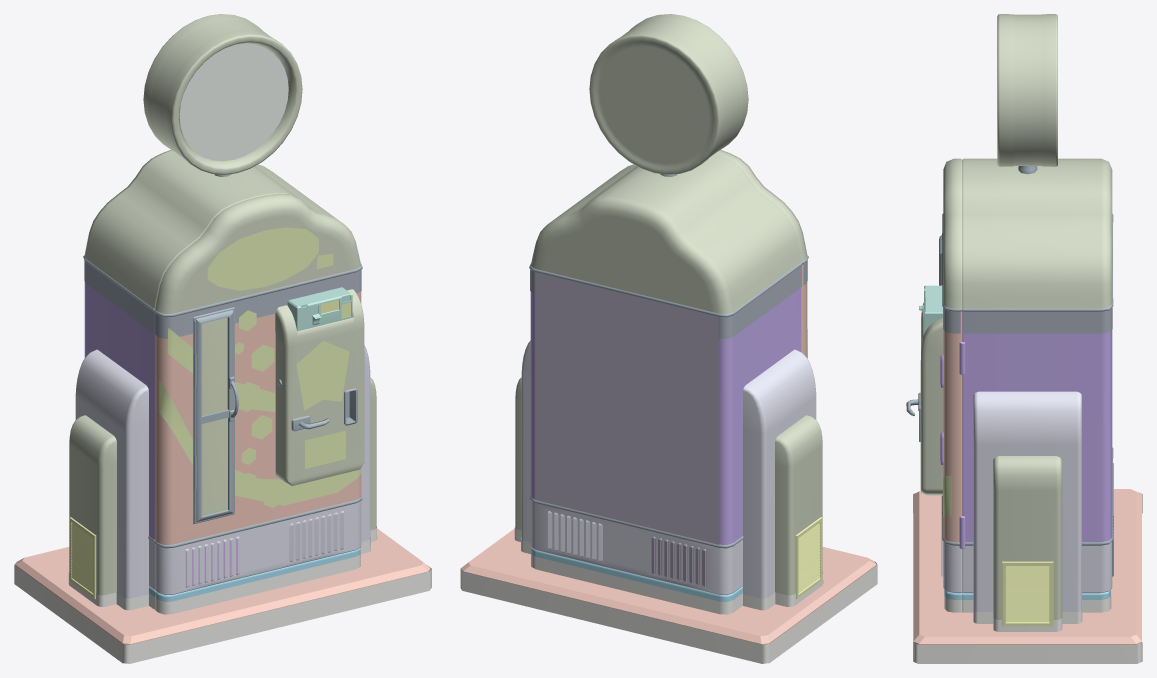
The model's file is Mule Kick.fbx.
The picture shows the model from 3 angles, left to right: view 1: azimuth 30°, elevation 25°; view 2: azimuth 150°, elevation 25°; view 3: azimuth 270°, elevation 25°; orthographic projection.
Visible parts, largest first — view 1: mc_mtl_p7_zm_vending_three_gun_metal_02_red_bld, mc_mtl_p7_zm_vending_three_gun_metal_01_yellow_bld, mc_mtl_p7_zm_vending_three_gun_metal_01_green_bld, mc_mtl_p7_zm_vending_three_gun_decal, mc_mtl_p7_zm_vending_three_gun_dust_2, mc_mtl_p7_zm_vending_three_gun_plastic, mc_mtl_p7_zm_vending_three_gun_metal_02_bld, mc_mtl_p7_zm_vending_three_gun_metal_02_yellow_bld, mc_mtl_p7_zm_vending_three_gun_glass, mc_mtl_p7_zm_vending_three_gun_dust_1, mc_mtl_p7_zm_vending_three_gun_metal_intake_03, mc_mtl_p7_zm_vending_three_gun_metal_03_bld (+1 smaller); view 2: mc_mtl_p7_zm_vending_three_gun_metal_02_red_bld, mc_mtl_p7_zm_vending_three_gun_coil, mc_mtl_p7_zm_vending_three_gun_metal_01_green_bld, mc_mtl_p7_zm_vending_three_gun_dust_2, mc_mtl_p7_zm_vending_three_gun_metal_01_yellow_bld, mc_mtl_p7_zm_vending_three_gun_metal_02_yellow_bld, mc_mtl_p7_zm_vending_three_gun_dust_1, mc_mtl_p7_zm_vending_three_gun_metal_02_bld, mc_mtl_p7_zm_vending_three_gun_metal_intake_03, mc_mtl_p7_zm_vending_three_gun_metal_02_green_bld; view 3: mc_mtl_p7_zm_vending_three_gun_metal_02_red_bld, mc_mtl_p7_zm_vending_three_gun_metal_01_green_bld, mc_mtl_p7_zm_vending_three_gun_metal_01_yellow_bld, mc_mtl_p7_zm_vending_three_gun_metal_02_yellow_bld, mc_mtl_p7_zm_vending_three_gun_dust_2, mc_mtl_p7_zm_vending_three_gun_dust_1, mc_mtl_p7_zm_vending_three_gun_metal_intake_03, mc_mtl_p7_zm_vending_three_gun_metal_02_bld, mc_mtl_p7_zm_vending_three_gun_metal_03_bld, mc_mtl_p7_zm_vending_three_gun_metal_02_green_bld, mc_mtl_p7_zm_vending_three_gun_decal.
Boxes of the visible parts, <box> form: mc_mtl_p7_zm_vending_three_gun_metal_02_red_bld: <box>69,14,376,595</box>; mc_mtl_p7_zm_vending_three_gun_metal_01_yellow_bld: <box>15,270,430,644</box>; mc_mtl_p7_zm_vending_three_gun_metal_01_green_bld: <box>75,345,370,605</box>; mc_mtl_p7_zm_vending_three_gun_decal: <box>159,227,361,507</box>; mc_mtl_p7_zm_vending_three_gun_dust_2: <box>14,526,431,663</box>; mc_mtl_p7_zm_vending_three_gun_plastic: <box>179,44,288,161</box>; mc_mtl_p7_zm_vending_three_gun_metal_02_bld: <box>83,174,362,548</box>; mc_mtl_p7_zm_vending_three_gun_metal_02_yellow_bld: <box>84,261,155,539</box>; mc_mtl_p7_zm_vending_three_gun_glass: <box>201,317,227,515</box>; mc_mtl_p7_zm_vending_three_gun_dust_1: <box>84,260,361,338</box>; mc_mtl_p7_zm_vending_three_gun_metal_intake_03: <box>69,300,350,599</box>; mc_mtl_p7_zm_vending_three_gun_metal_03_bld: <box>287,287,352,331</box>; mc_mtl_p7_zm_vending_three_gun_metal_02_red_bld: <box>515,14,822,595</box>; mc_mtl_p7_zm_vending_three_gun_coil: <box>535,272,718,544</box>; mc_mtl_p7_zm_vending_three_gun_metal_01_green_bld: <box>521,340,816,605</box>; mc_mtl_p7_zm_vending_three_gun_dust_2: <box>460,526,877,663</box>; mc_mtl_p7_zm_vending_three_gun_metal_01_yellow_bld: <box>461,262,876,644</box>; mc_mtl_p7_zm_vending_three_gun_metal_02_yellow_bld: <box>530,266,801,544</box>; mc_mtl_p7_zm_vending_three_gun_dust_1: <box>530,260,807,338</box>; mc_mtl_p7_zm_vending_three_gun_metal_02_bld: <box>529,174,808,548</box>; mc_mtl_p7_zm_vending_three_gun_metal_intake_03: <box>795,517,822,599</box>; mc_mtl_p7_zm_vending_three_gun_metal_02_green_bld: <box>531,548,742,601</box>; mc_mtl_p7_zm_vending_three_gun_metal_02_red_bld: <box>920,14,1112,619</box>; mc_mtl_p7_zm_vending_three_gun_metal_01_green_bld: <box>941,391,1113,611</box>; mc_mtl_p7_zm_vending_three_gun_metal_01_yellow_bld: <box>913,310,1141,644</box>; mc_mtl_p7_zm_vending_three_gun_metal_02_yellow_bld: <box>940,310,1112,549</box>; mc_mtl_p7_zm_vending_three_gun_dust_2: <box>913,493,1142,663</box>; mc_mtl_p7_zm_vending_three_gun_dust_1: <box>943,307,1112,333</box>; mc_mtl_p7_zm_vending_three_gun_metal_intake_03: <box>1002,561,1053,626</box>; mc_mtl_p7_zm_vending_three_gun_metal_02_bld: <box>906,166,1113,545</box>; mc_mtl_p7_zm_vending_three_gun_metal_03_bld: <box>919,285,942,333</box>; mc_mtl_p7_zm_vending_three_gun_metal_02_green_bld: <box>944,589,1110,599</box>; mc_mtl_p7_zm_vending_three_gun_decal: <box>943,475,951,516</box>.
Size of the model in its own units: 6735 by 11648 by 4404.
